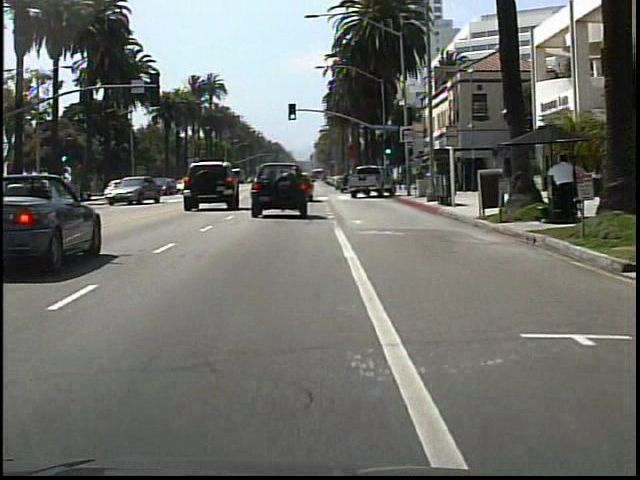person: (545, 152, 575, 228), (568, 153, 593, 227)
